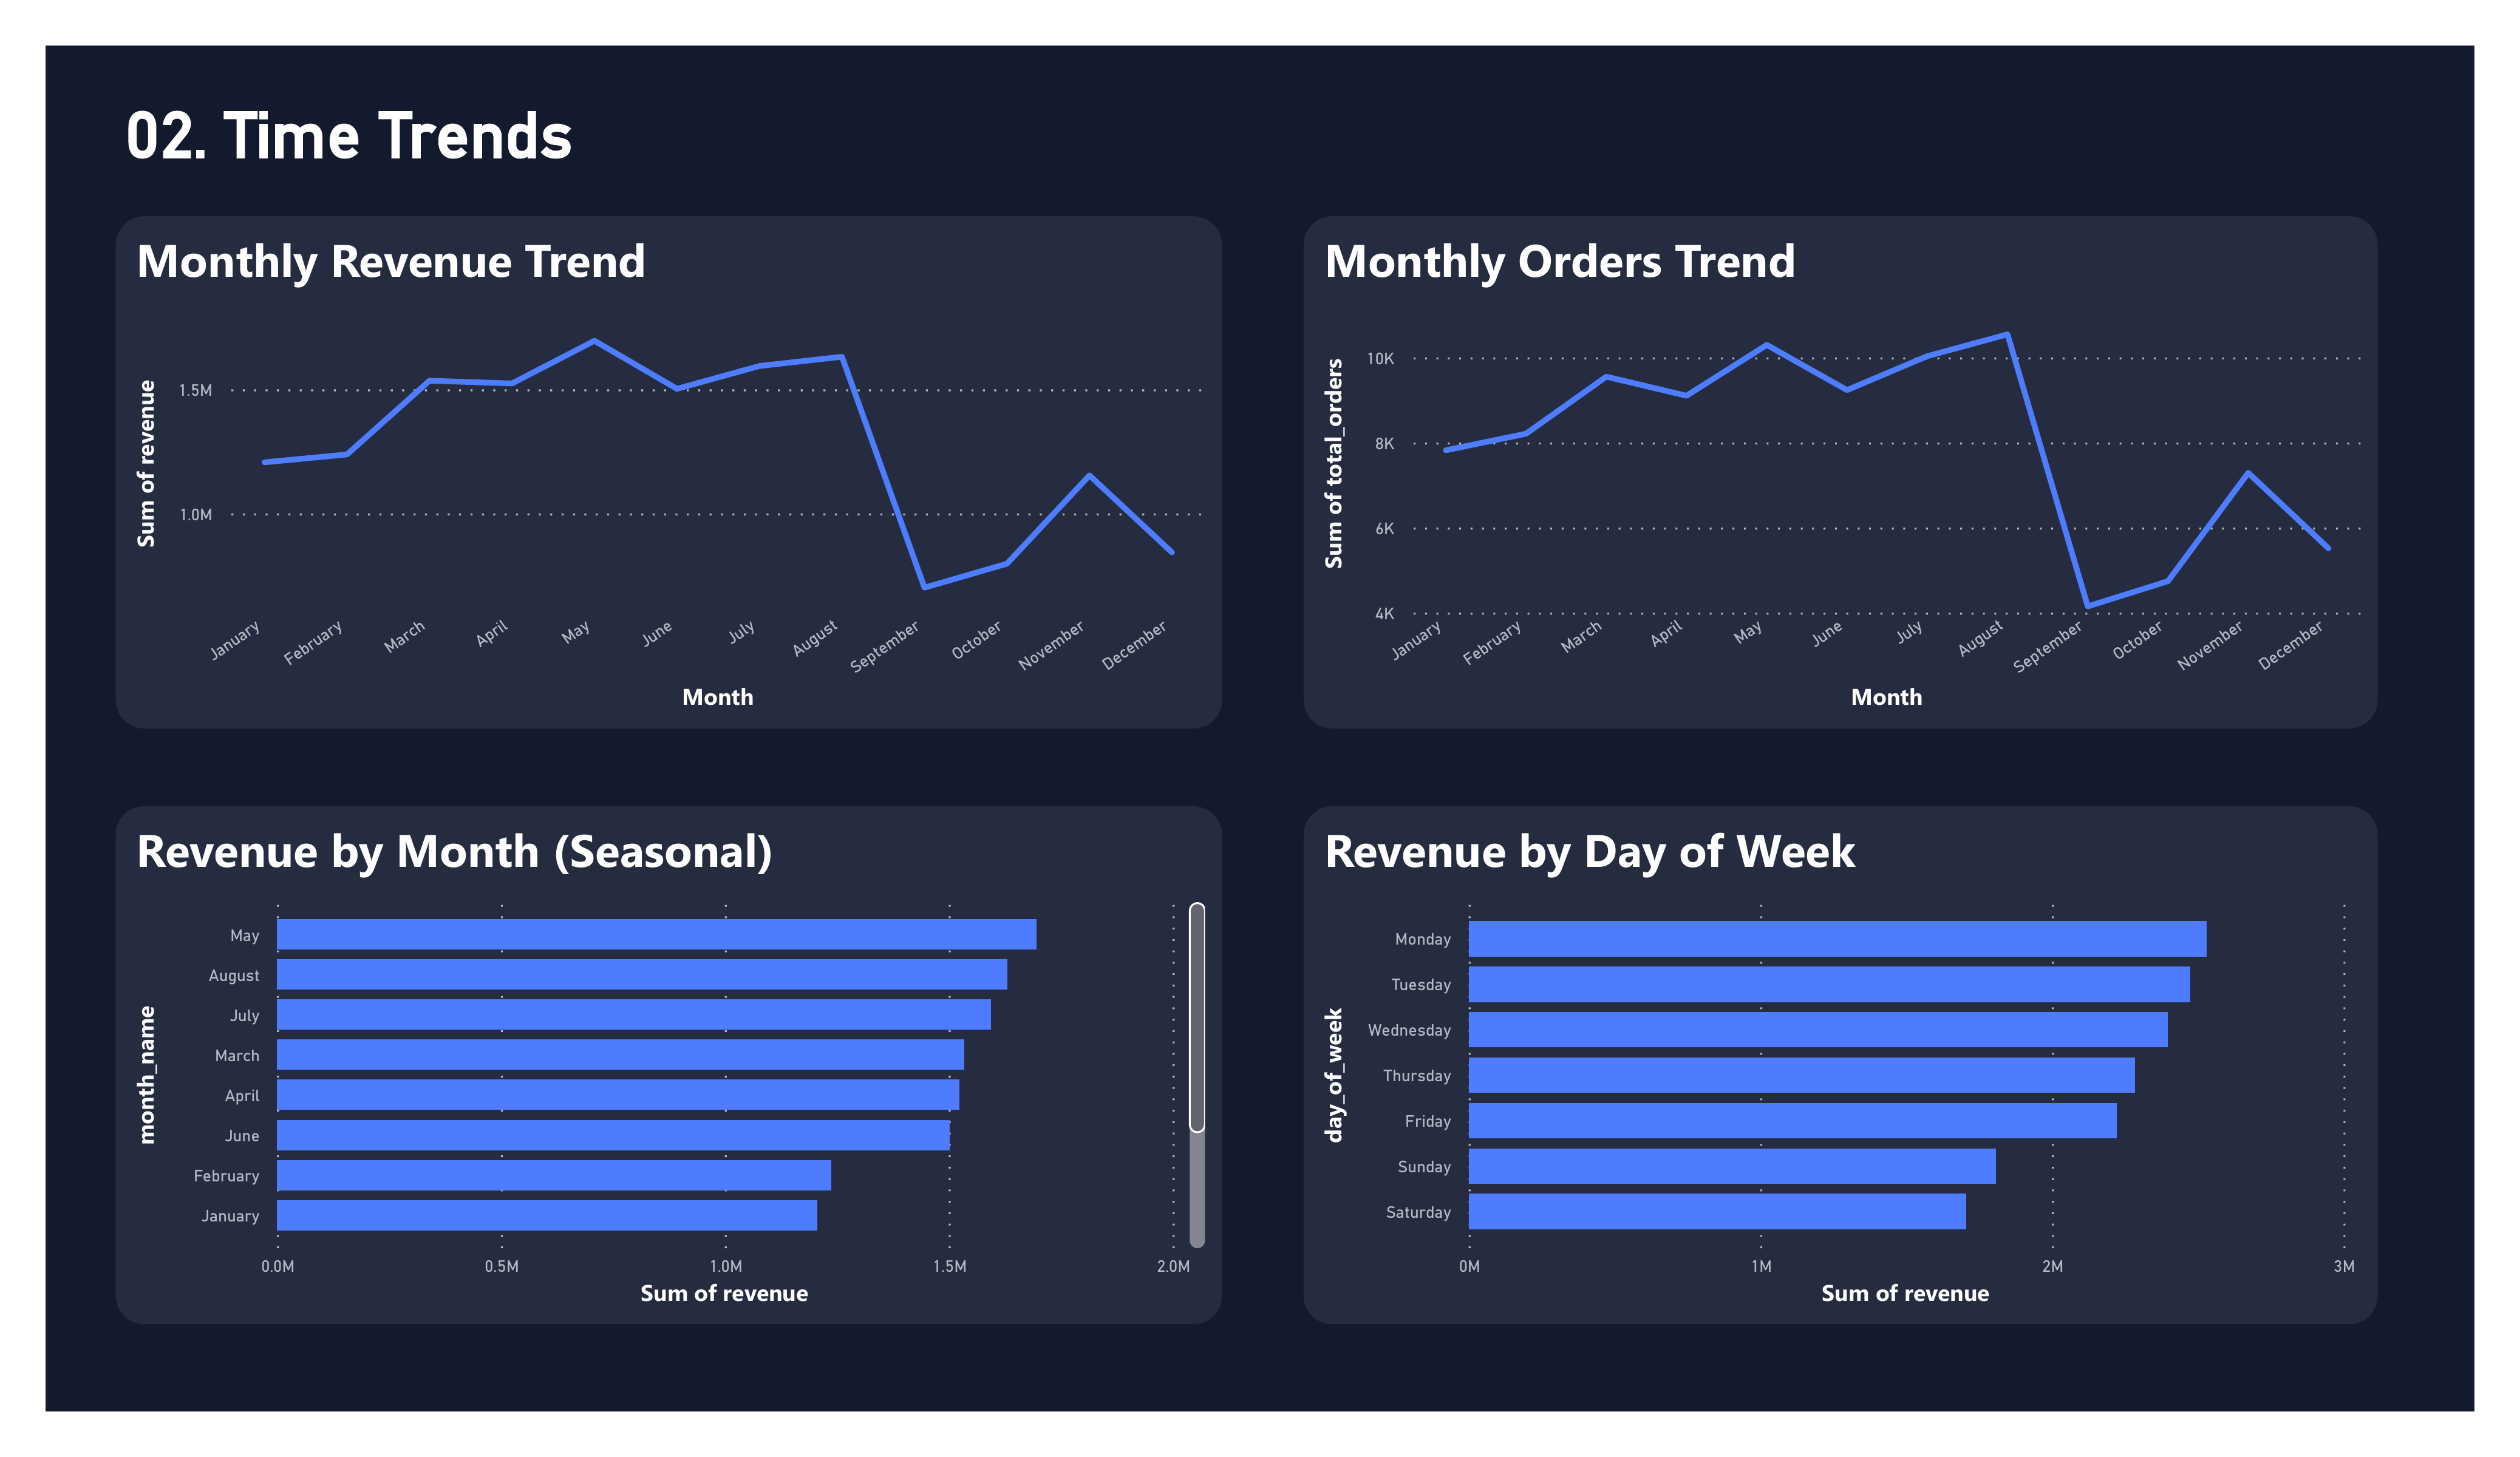

Layout of this report page (visuals, bound fields, positions):
{"tool":"powerbi","page":{"name":"02. Time Trends","canvas":[1280,720],"ordinal":1},"visuals":[{"type":"textbox","box":[37.1,22.9,310,51.4],"z":0},{"type":"lineChart","title":"Monthly Revenue Trend","fields":{"Category":["Time Trends.month.Variation.Date Hierarchy.Month"],"Y":["Sum(Time Trends.revenue)"]},"box":[37.1,90,582.9,270],"z":1000},{"type":"lineChart","title":"Monthly Orders Trend","fields":{"Category":["Time Trends.month.Variation.Date Hierarchy.Month"],"Y":["Sum(Time Trends.total_orders)"]},"box":[662.9,90,565.7,270],"z":2000},{"type":"clusteredBarChart","title":"Revenue by Month (Seasonal)","fields":{"Y":["Sum(revenue_by_month.revenue)"],"Category":["revenue_by_month.month_name"]},"box":[37.1,401.4,582.9,272.9],"z":3000},{"type":"clusteredBarChart","title":"Revenue by Day of Week","fields":{"Y":["Sum(revenue_by_day.revenue)"],"Category":["revenue_by_day.day_of_week"]},"box":[663,401,566,273],"z":4000}]}

Visuals, with their boxes on the page's 1280x720 design canvas (x1, y1, x2, y2). These are canvas units, not pixel positions in the 2520x1457 screenshot, which may show the page scaled, cropped or inside an application window:
textbox: <box>37,23,347,74</box>
"Monthly Revenue Trend" lineChart: <box>37,90,620,360</box>
"Monthly Orders Trend" lineChart: <box>663,90,1229,360</box>
"Revenue by Month (Seasonal)" clusteredBarChart: <box>37,401,620,674</box>
"Revenue by Day of Week" clusteredBarChart: <box>663,401,1229,674</box>
